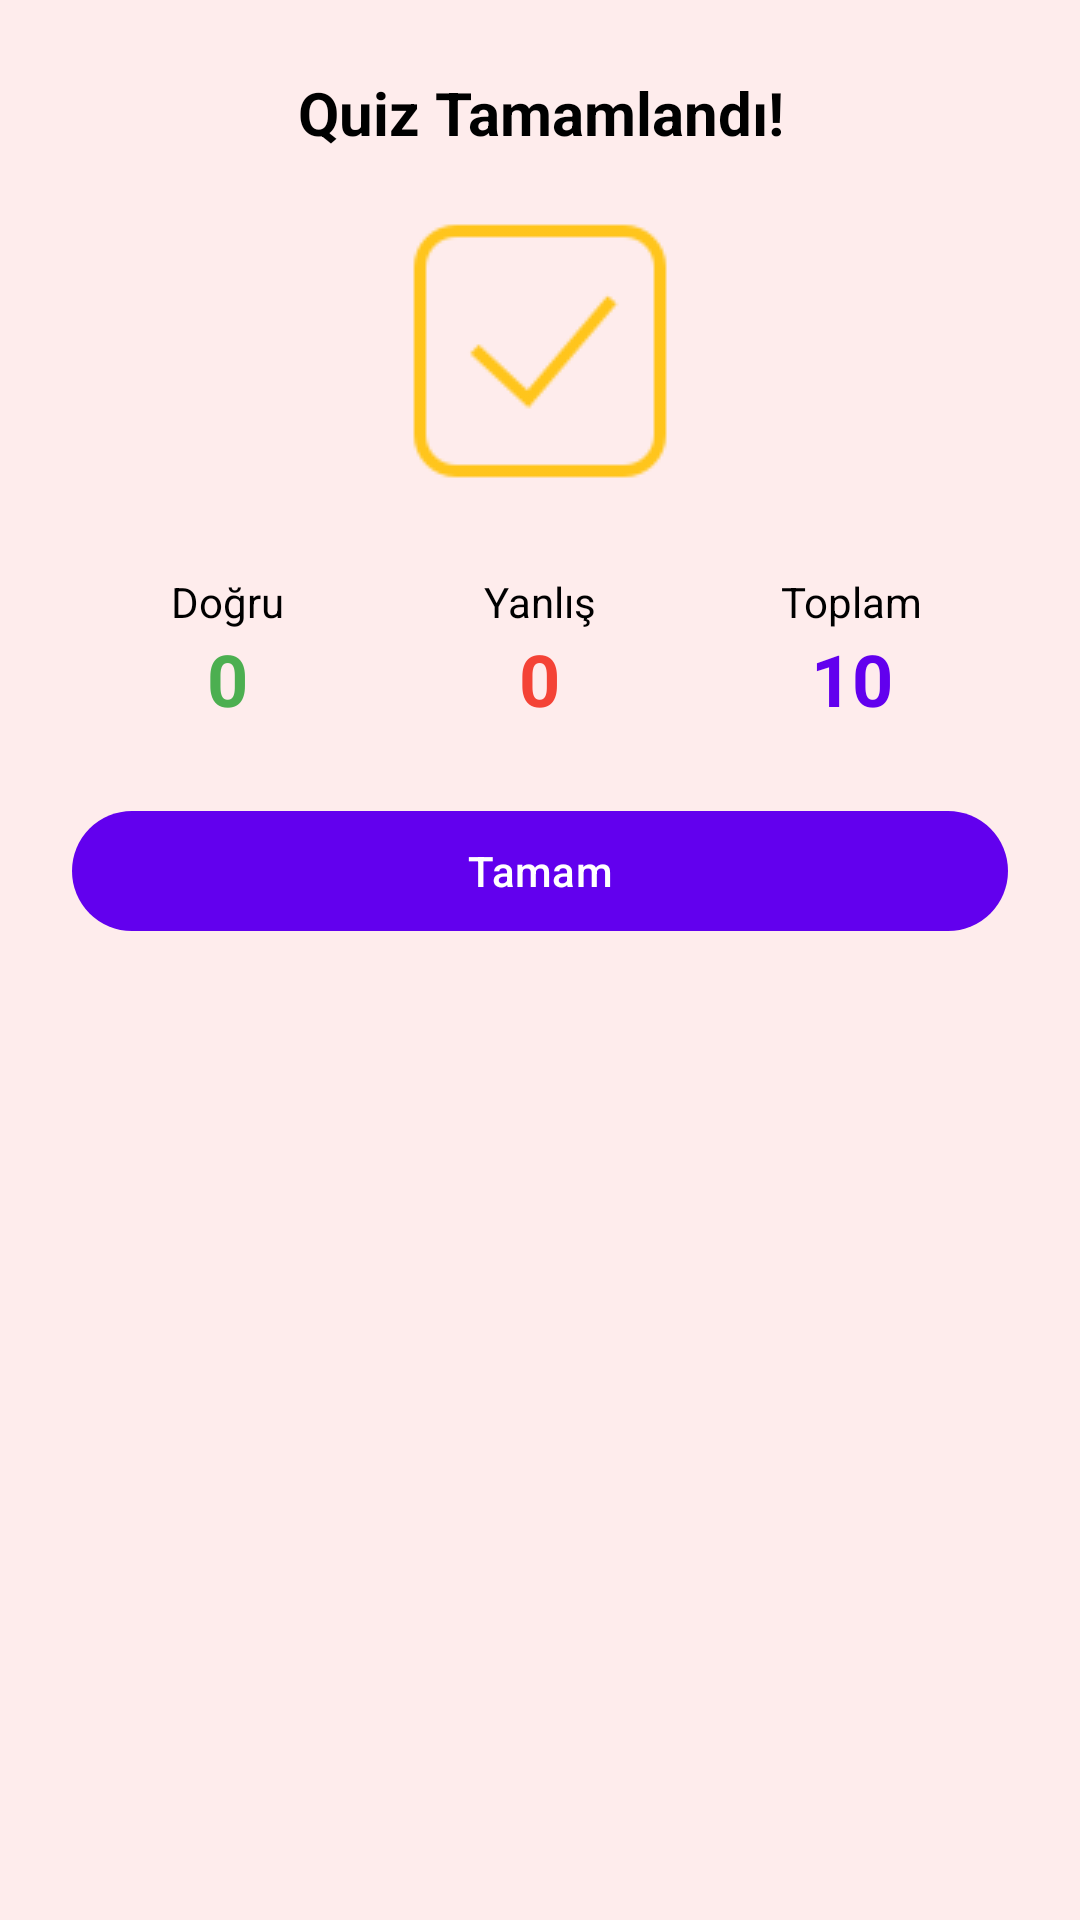

Named icons in this screenshot (1080×1920) and their centers, [x,y]:
correct: [540,351]
